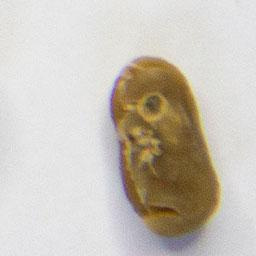defect: (108, 55, 222, 240)
